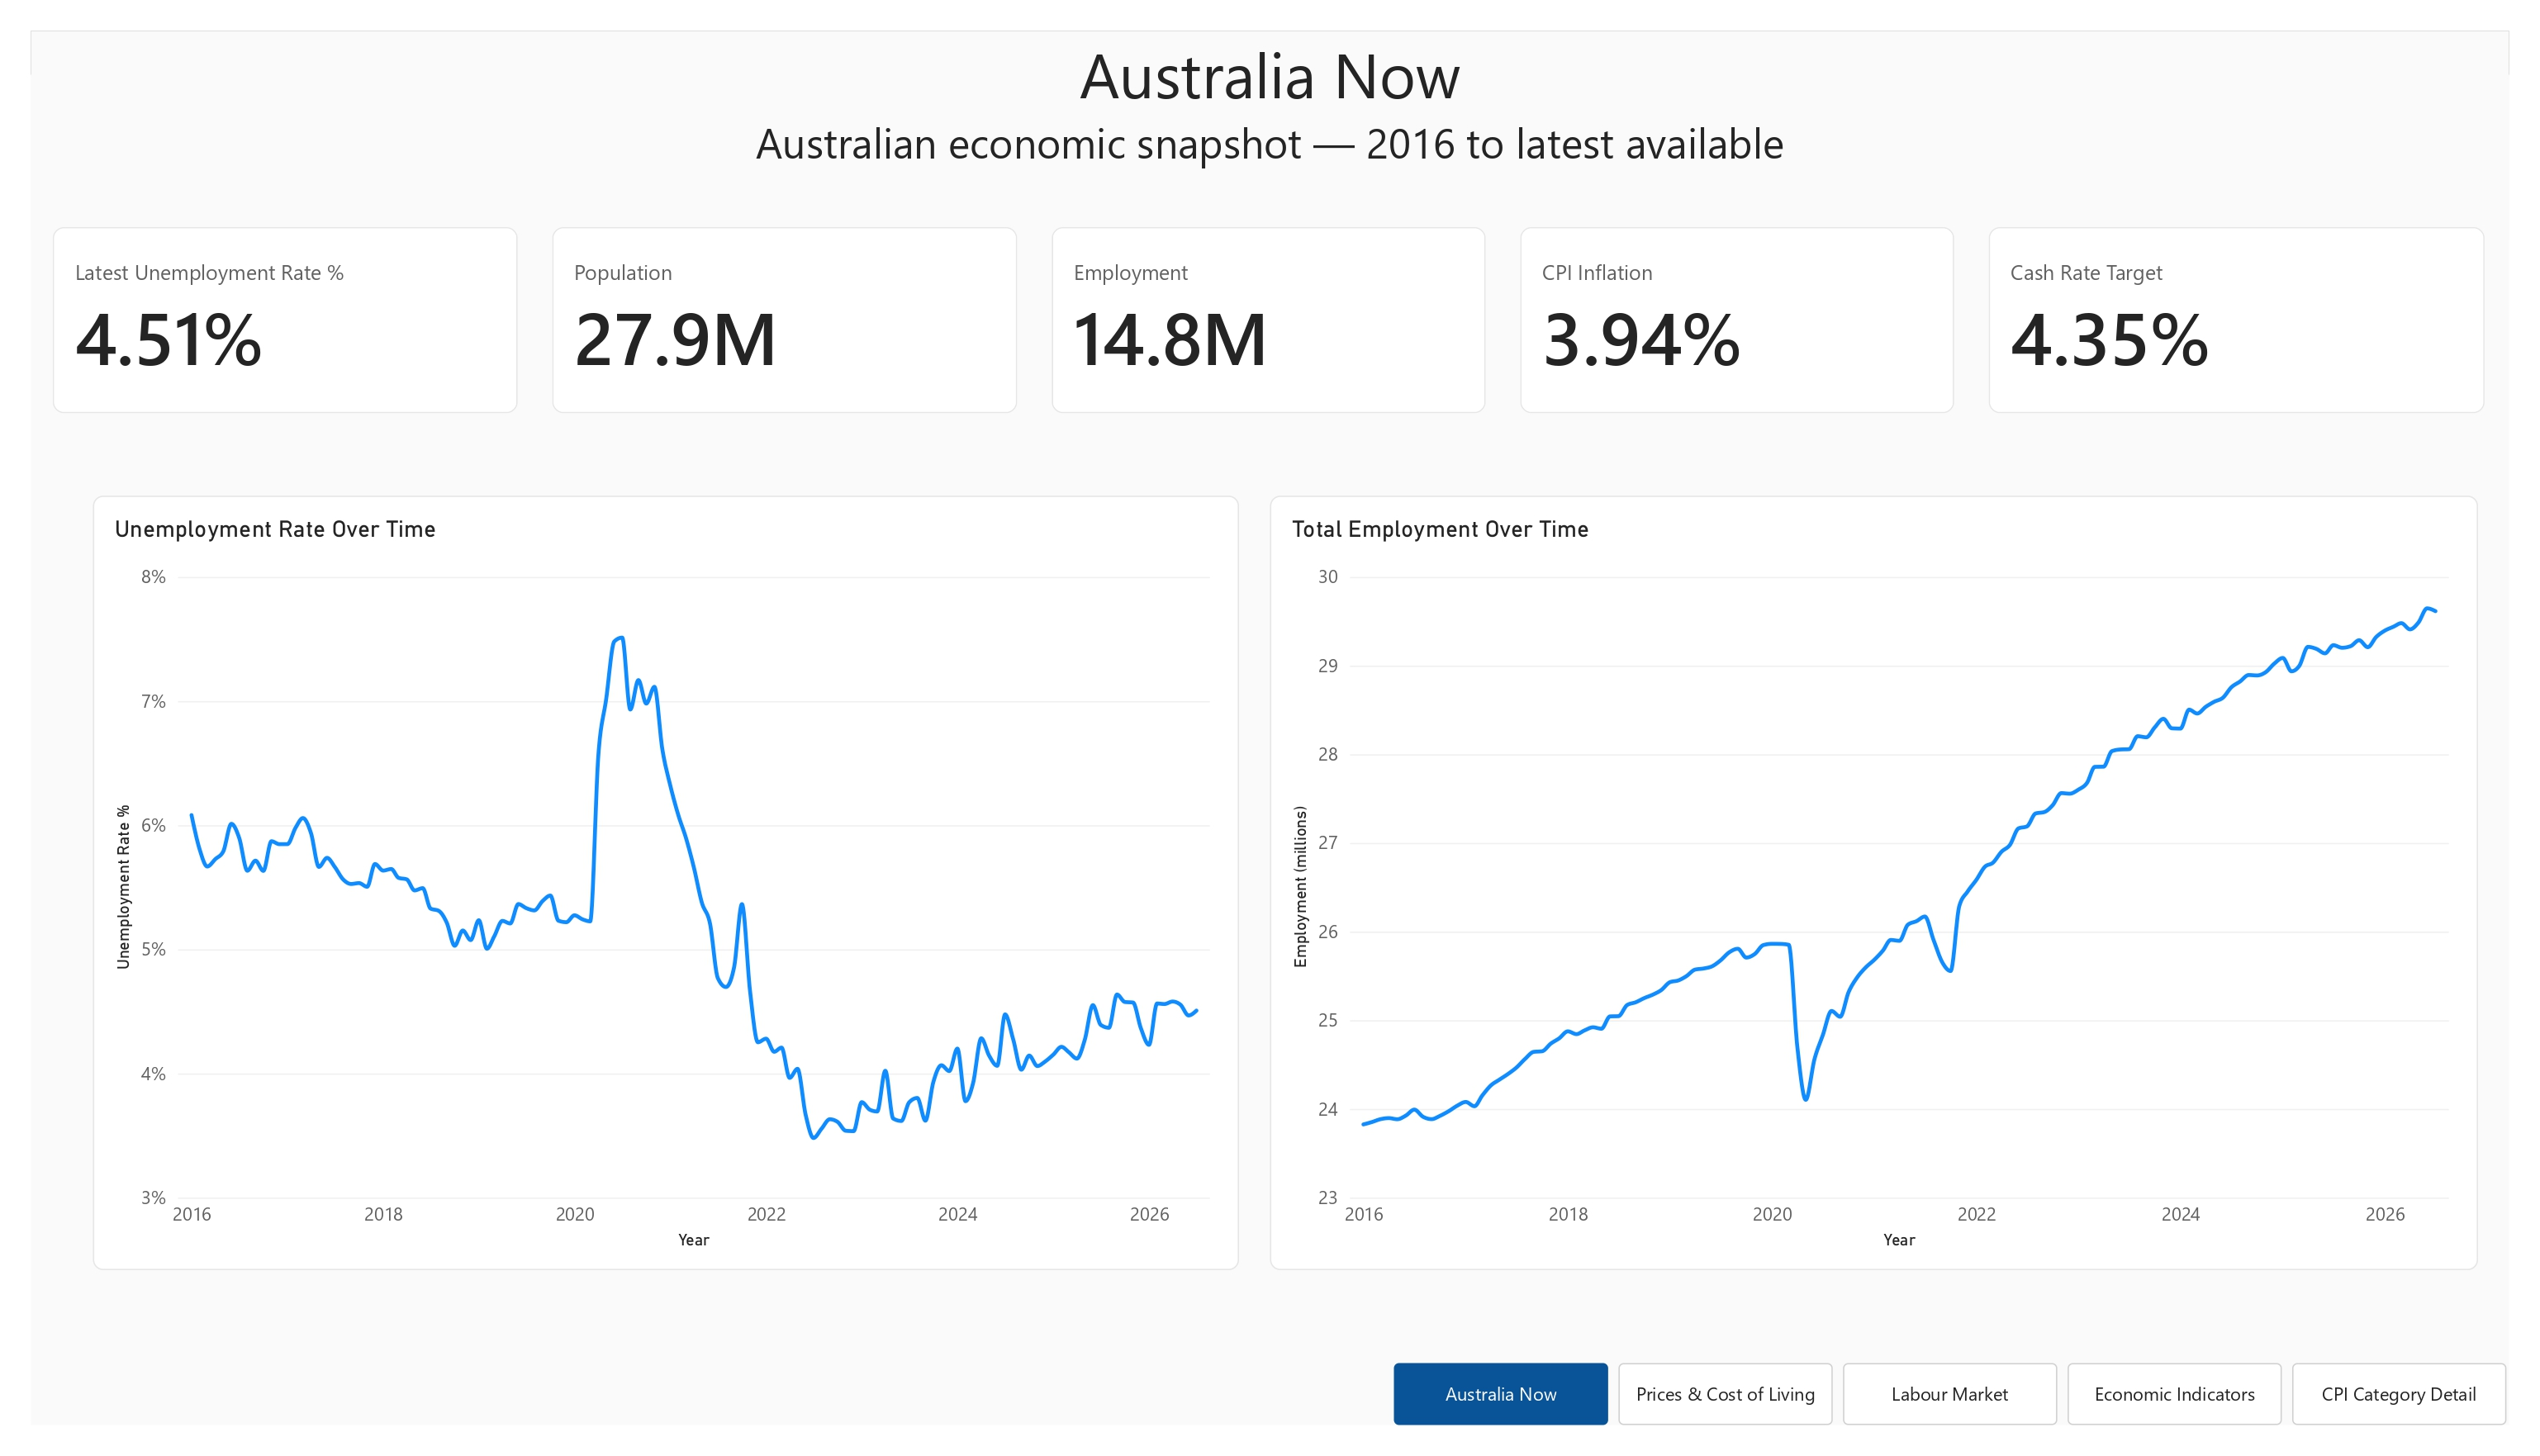

Layout of this report page (visuals, bound fields, positions):
{"tool":"powerbi","page":{"name":"Australia Now","canvas":[1920,1080],"ordinal":0},"visuals":[{"type":"textbox","box":[24,0,1872,144],"z":0},{"type":"cardVisual","fields":{"Data":["Labour Force.Latest Unemployment Rate %"]},"box":[17.4,152.2,360,144],"z":1000},{"type":"cardVisual","fields":{"Data":["Population.Population (M)"]},"box":[404.3,152.2,360,144],"z":2000},{"type":"cardVisual","fields":{"Data":["Labour Force.Latest Employment (M)"]},"box":[791.1,152.2,336,144],"z":3000},{"type":"cardVisual","fields":{"Data":["CPI_from2016.Latest CPI YoY %"]},"box":[1154,152.2,336,144],"z":4000},{"type":"cardVisual","fields":{"Data":["Cash Rate.Cash Rate Target"]},"box":[1516.9,152.2,384,144],"z":5000},{"type":"lineChart","title":"Unemployment Rate Over Time","fields":{"Category":["DimDate.Date"],"Y":["Labour Force.Unemployment Rate %"]},"box":[48,360,888,600],"z":6000},{"type":"lineChart","title":"Total Employment Over Time","fields":{"Category":["DimDate.Date"],"Y":["Labour Force.Employment (M)"]},"box":[960,360,936,600],"z":7000},{"type":"pageNavigator","box":[1056,1032,864,48],"z":8000}]}

Visuals, with their boxes on the page's 1920x1080 design canvas (x1, y1, x2, y2). These are canvas units, not pixel positions in the 2540x1456 screenshot, which may show the page scaled, cropped or inside an application window:
textbox: bbox(24, 0, 1896, 144)
cardVisual - Labour Force.Latest Unemployment Rate %: bbox(17, 152, 377, 296)
cardVisual - Population.Population (M): bbox(404, 152, 764, 296)
cardVisual - Labour Force.Latest Employment (M): bbox(791, 152, 1127, 296)
cardVisual - CPI_from2016.Latest CPI YoY %: bbox(1154, 152, 1490, 296)
cardVisual - Cash Rate.Cash Rate Target: bbox(1517, 152, 1901, 296)
"Unemployment Rate Over Time" lineChart: bbox(48, 360, 936, 960)
"Total Employment Over Time" lineChart: bbox(960, 360, 1896, 960)
pageNavigator: bbox(1056, 1032, 1920, 1080)
